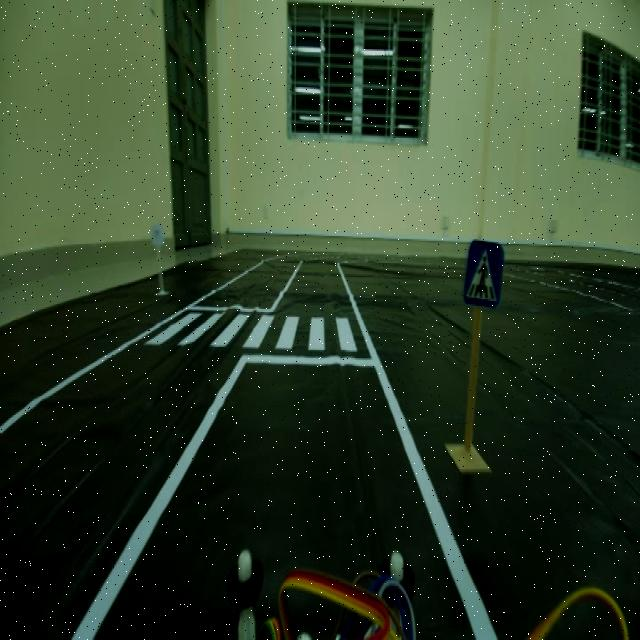crosswalk: (459, 226, 513, 326)
